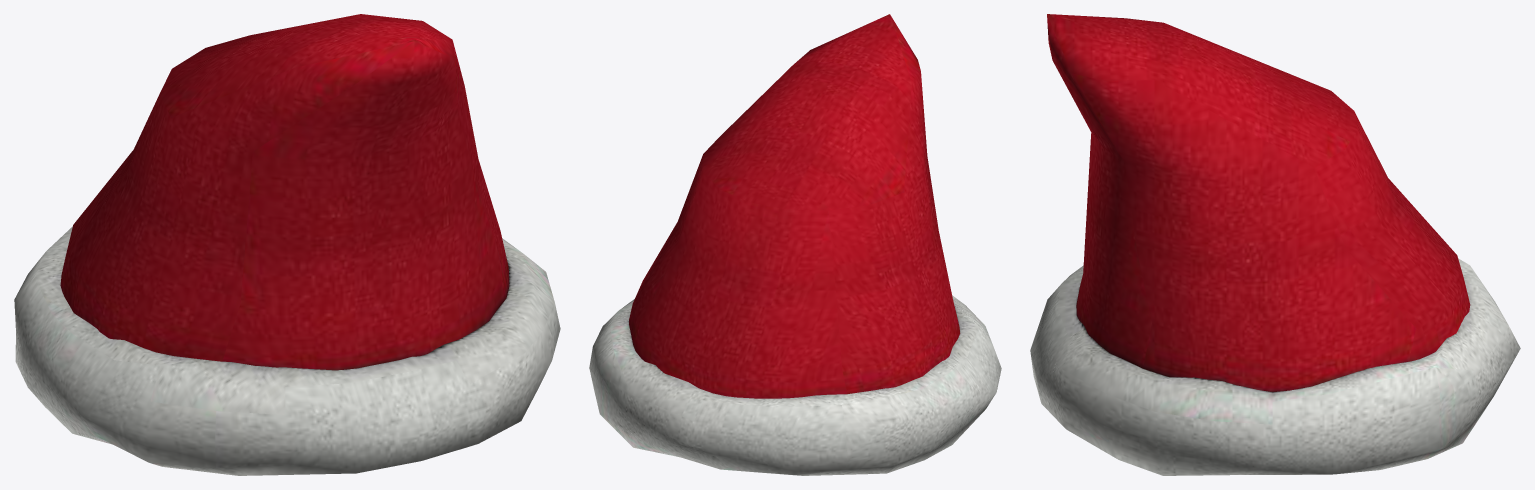
Rendered from santa_hat.glb.
3 renders of one model, left to right at view 1: azimuth 30°, elevation 25°; view 2: azimuth 150°, elevation 25°; view 3: azimuth 270°, elevation 25°, orthographic. The views are drawn at different scales.
Parts seen in each view (by area): view 1: Cylinder; view 2: Cylinder; view 3: Cylinder.
Part boxes in pixels (left/top/right/bottom): Cylinder: left=14, top=14, right=560, bottom=475; Cylinder: left=589, top=14, right=1001, bottom=475; Cylinder: left=1030, top=14, right=1520, bottom=475.
Size of the model in its own units: 3.7 by 3.27 by 3.8.
1 material, 1 textured.
